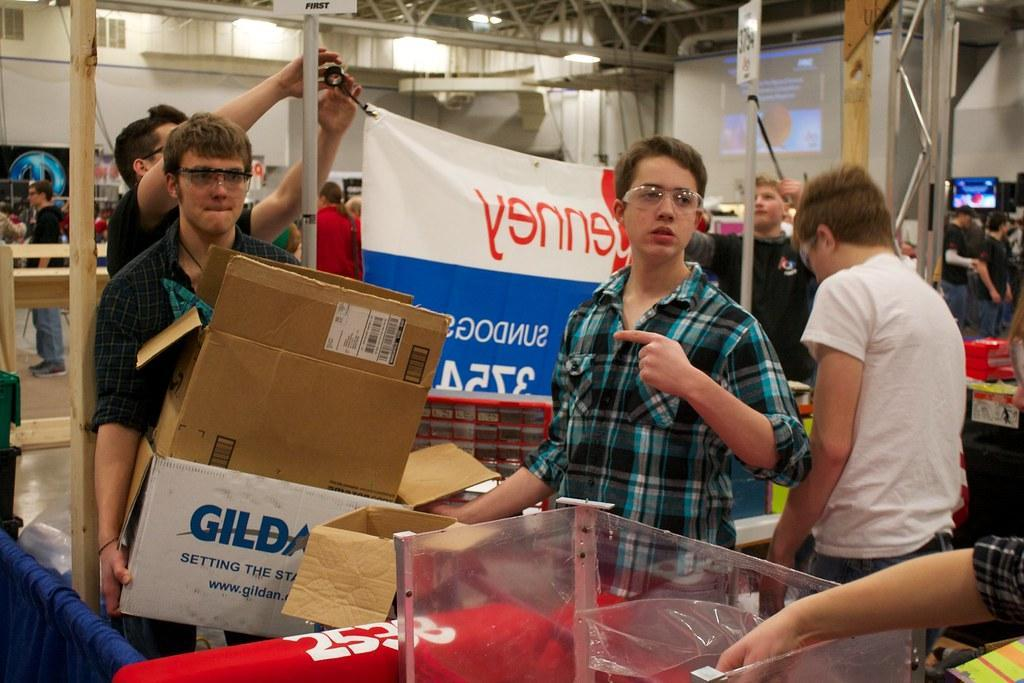robot: (113, 508, 907, 683)
